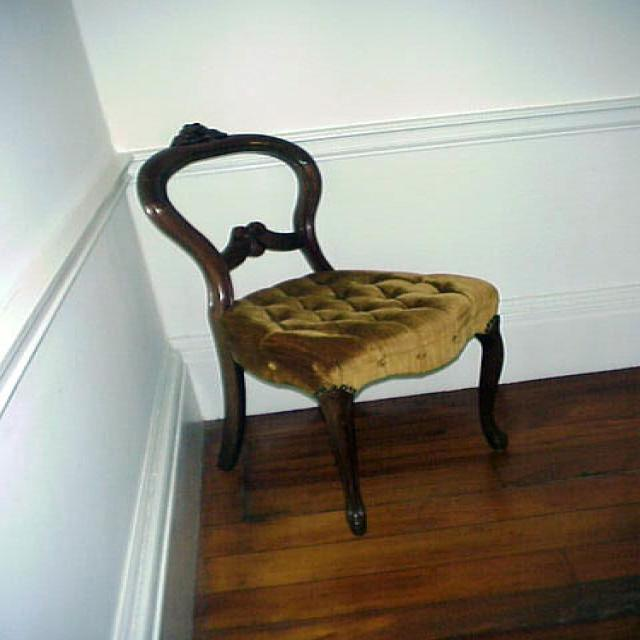chair: (135, 122, 514, 540)
